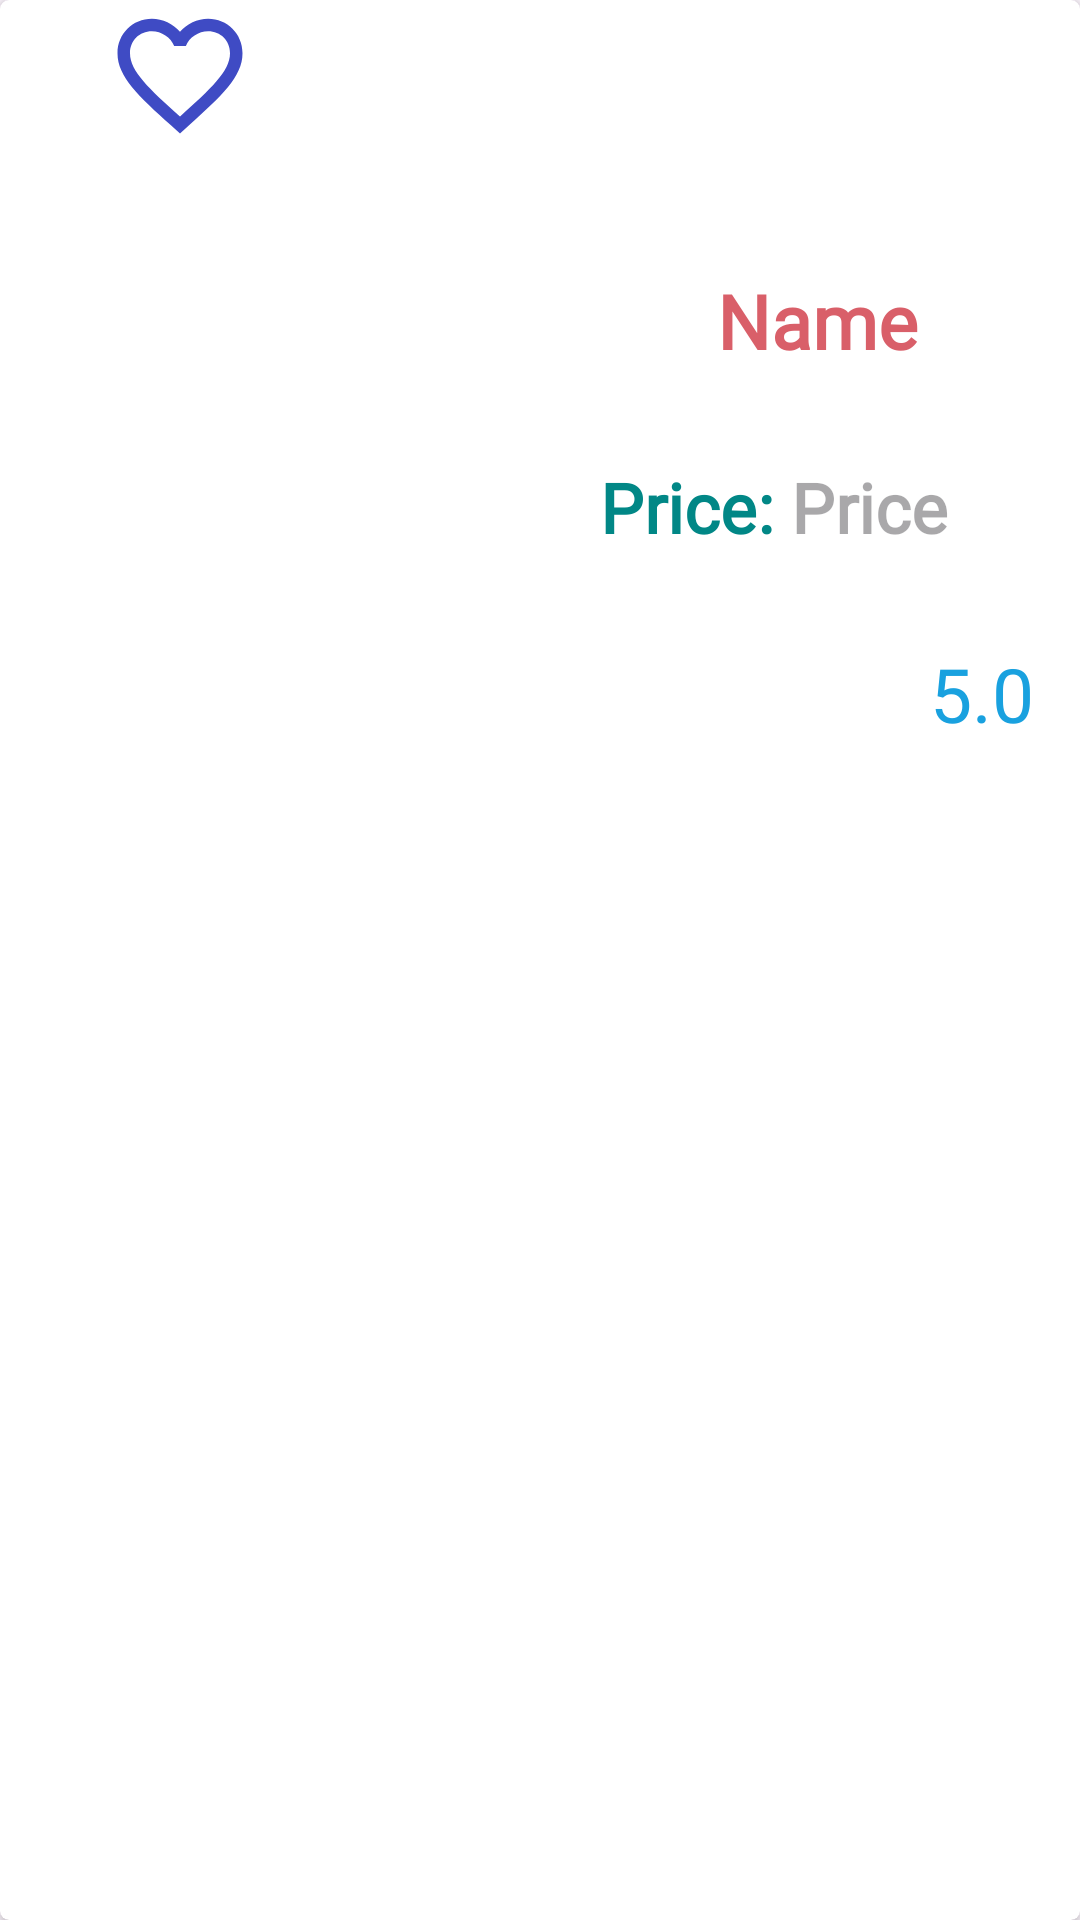

Icons on this 1080 × 1920 Android screen, each with the point to tap as point (x, y):
favorite border: point (180, 76)
